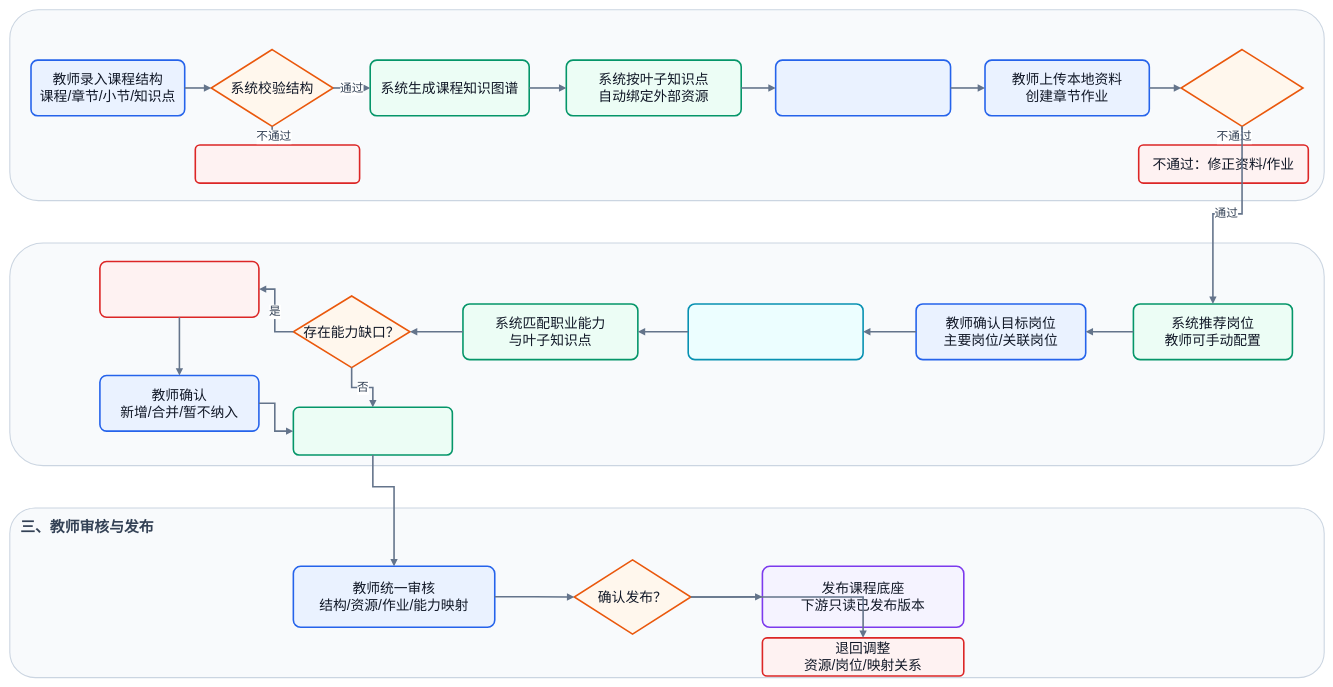
Image size: 1333x687. Some labels were removed from this diagram. Here are the shapes that lost their labels. From the top down, the box of each, then its label:
(9, 9, 1324, 201): 一、课程结构与资源底座
(775, 59, 951, 116): 教师审核资源清单 启用/替换/补充
(1180, 48, 1304, 127): 系统校验资料 与作业配置
(194, 144, 360, 184): 不通过：退回教师修正
(99, 260, 259, 318): 系统建议补充知识点 只进入草稿
(687, 303, 864, 360): 3.12 提取职业能力 岗位文本/来源依据
(9, 242, 1324, 466): 二、岗位能力映射
(292, 406, 453, 456): 生成待审核能力映射
